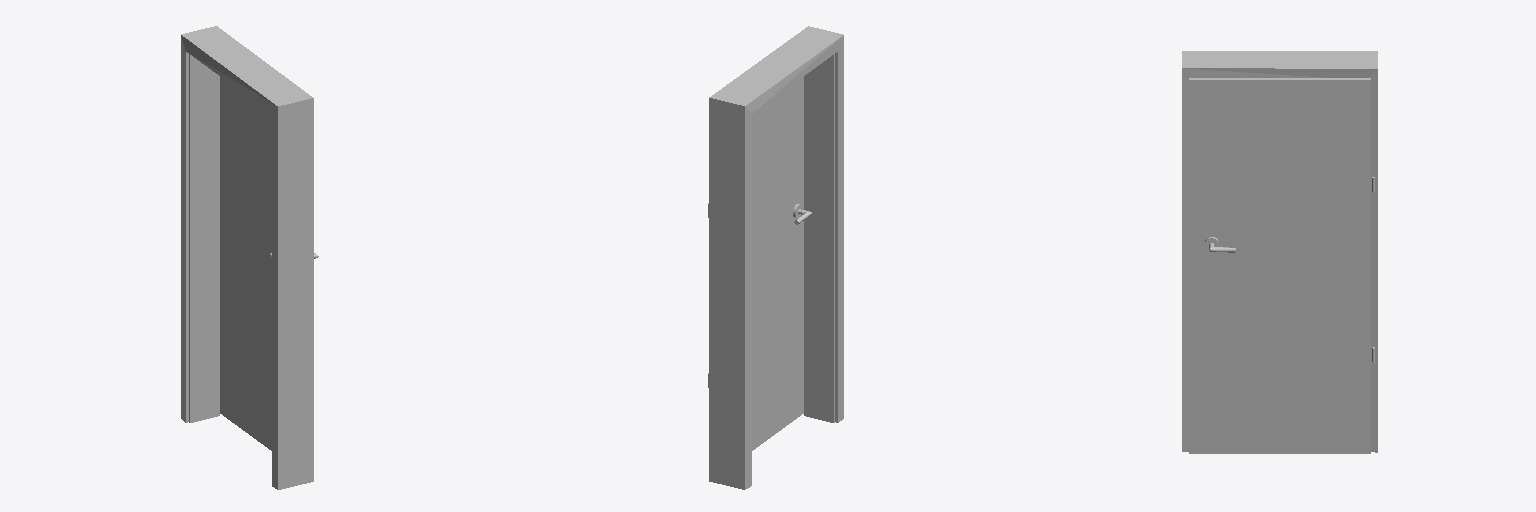
Rendered from door12.obj.
The picture shows the model from 3 angles: view 1: azimuth 30°, elevation 25°; view 2: azimuth 150°, elevation 25°; view 3: azimuth 270°, elevation 25°; orthographic projection.
Visible parts, largest first — view 1: Cylinder.005, Cylinder.001; view 2: Cylinder.005, Cylinder.001; view 3: Cylinder.001, Cylinder.005.
Part boxes in pixels (x1,y1,x2,y2): Cylinder.005: (181, 26, 313, 489); Cylinder.001: (220, 77, 271, 450); Cylinder.005: (708, 26, 843, 489); Cylinder.001: (708, 77, 803, 450); Cylinder.001: (1189, 78, 1374, 453); Cylinder.005: (1182, 51, 1377, 452).
Bounding box in the file's own units: 0.3039 × 2.05 × 0.95.